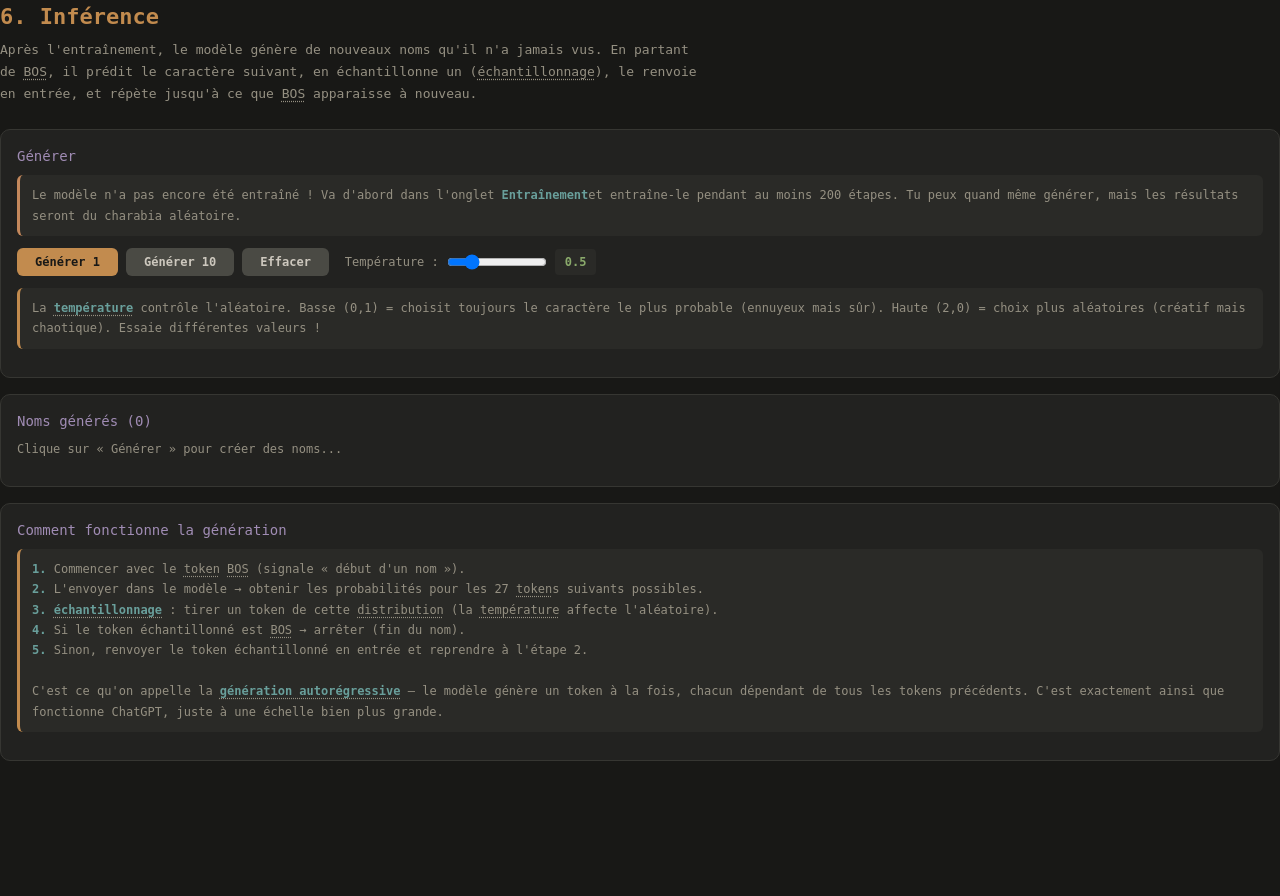
Test: InferencePage — gen-name buttons (W-4) › les noms générés sont des <button> avec type='button'
Note: Cliquer Générer 1 pour créer un résultat
Click the button "Générer 1" at coordinates (68, 262), box [17,248,118,276]
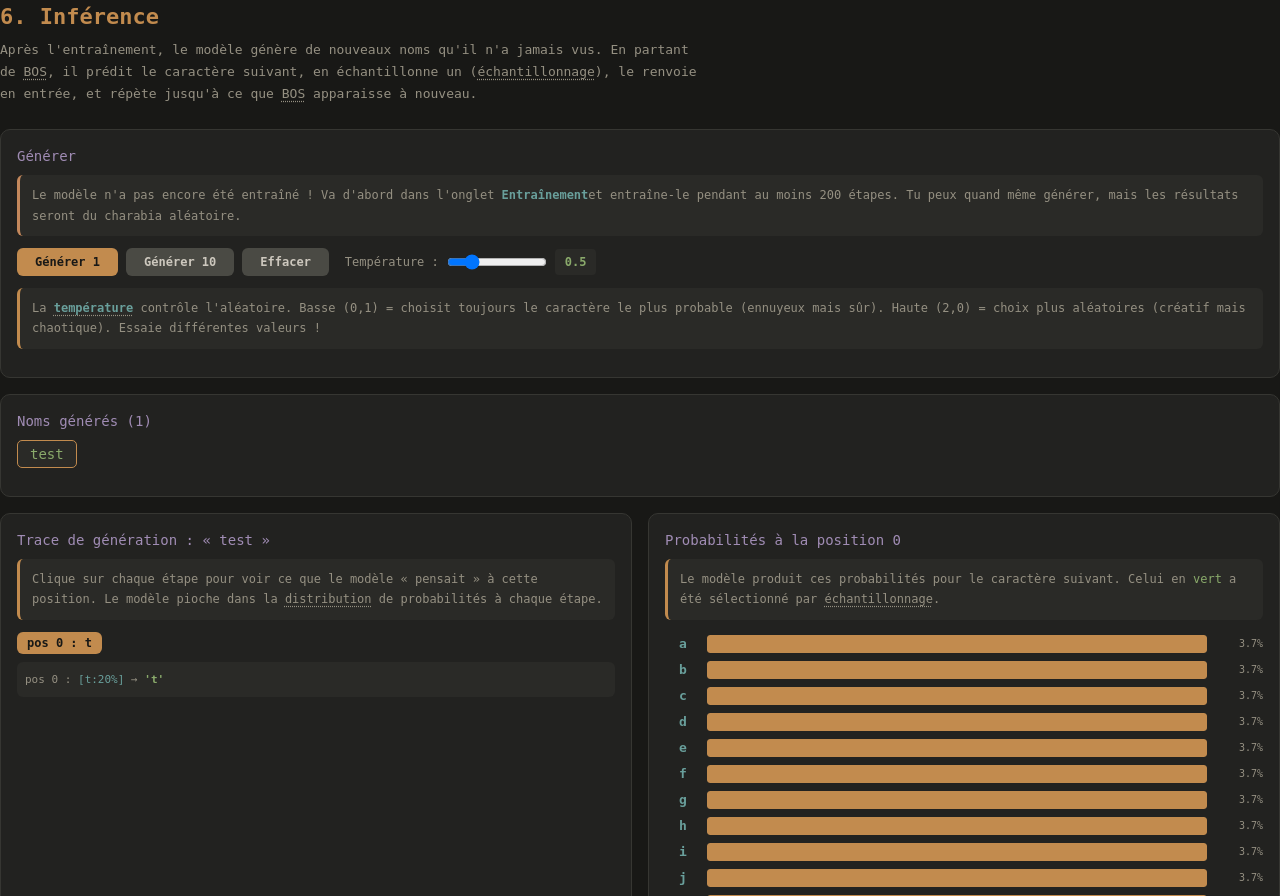
Expected: the button with class "gen-name" is shown, [17,440,77,468]
